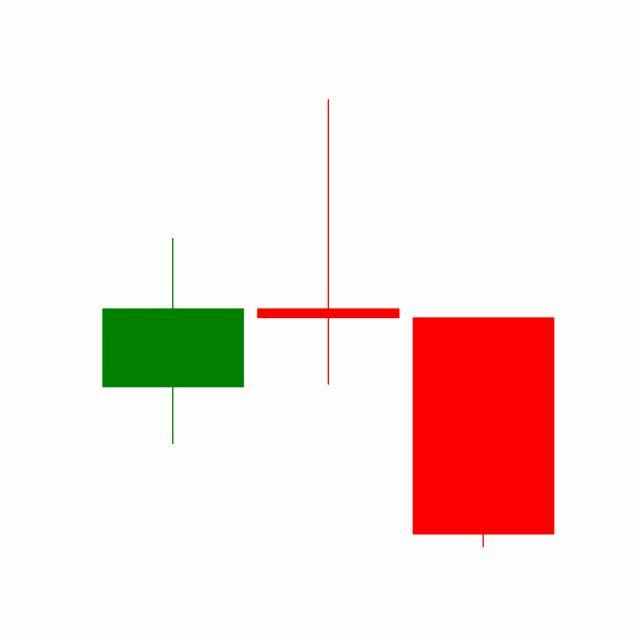Marubozu: (406, 316, 562, 551)
